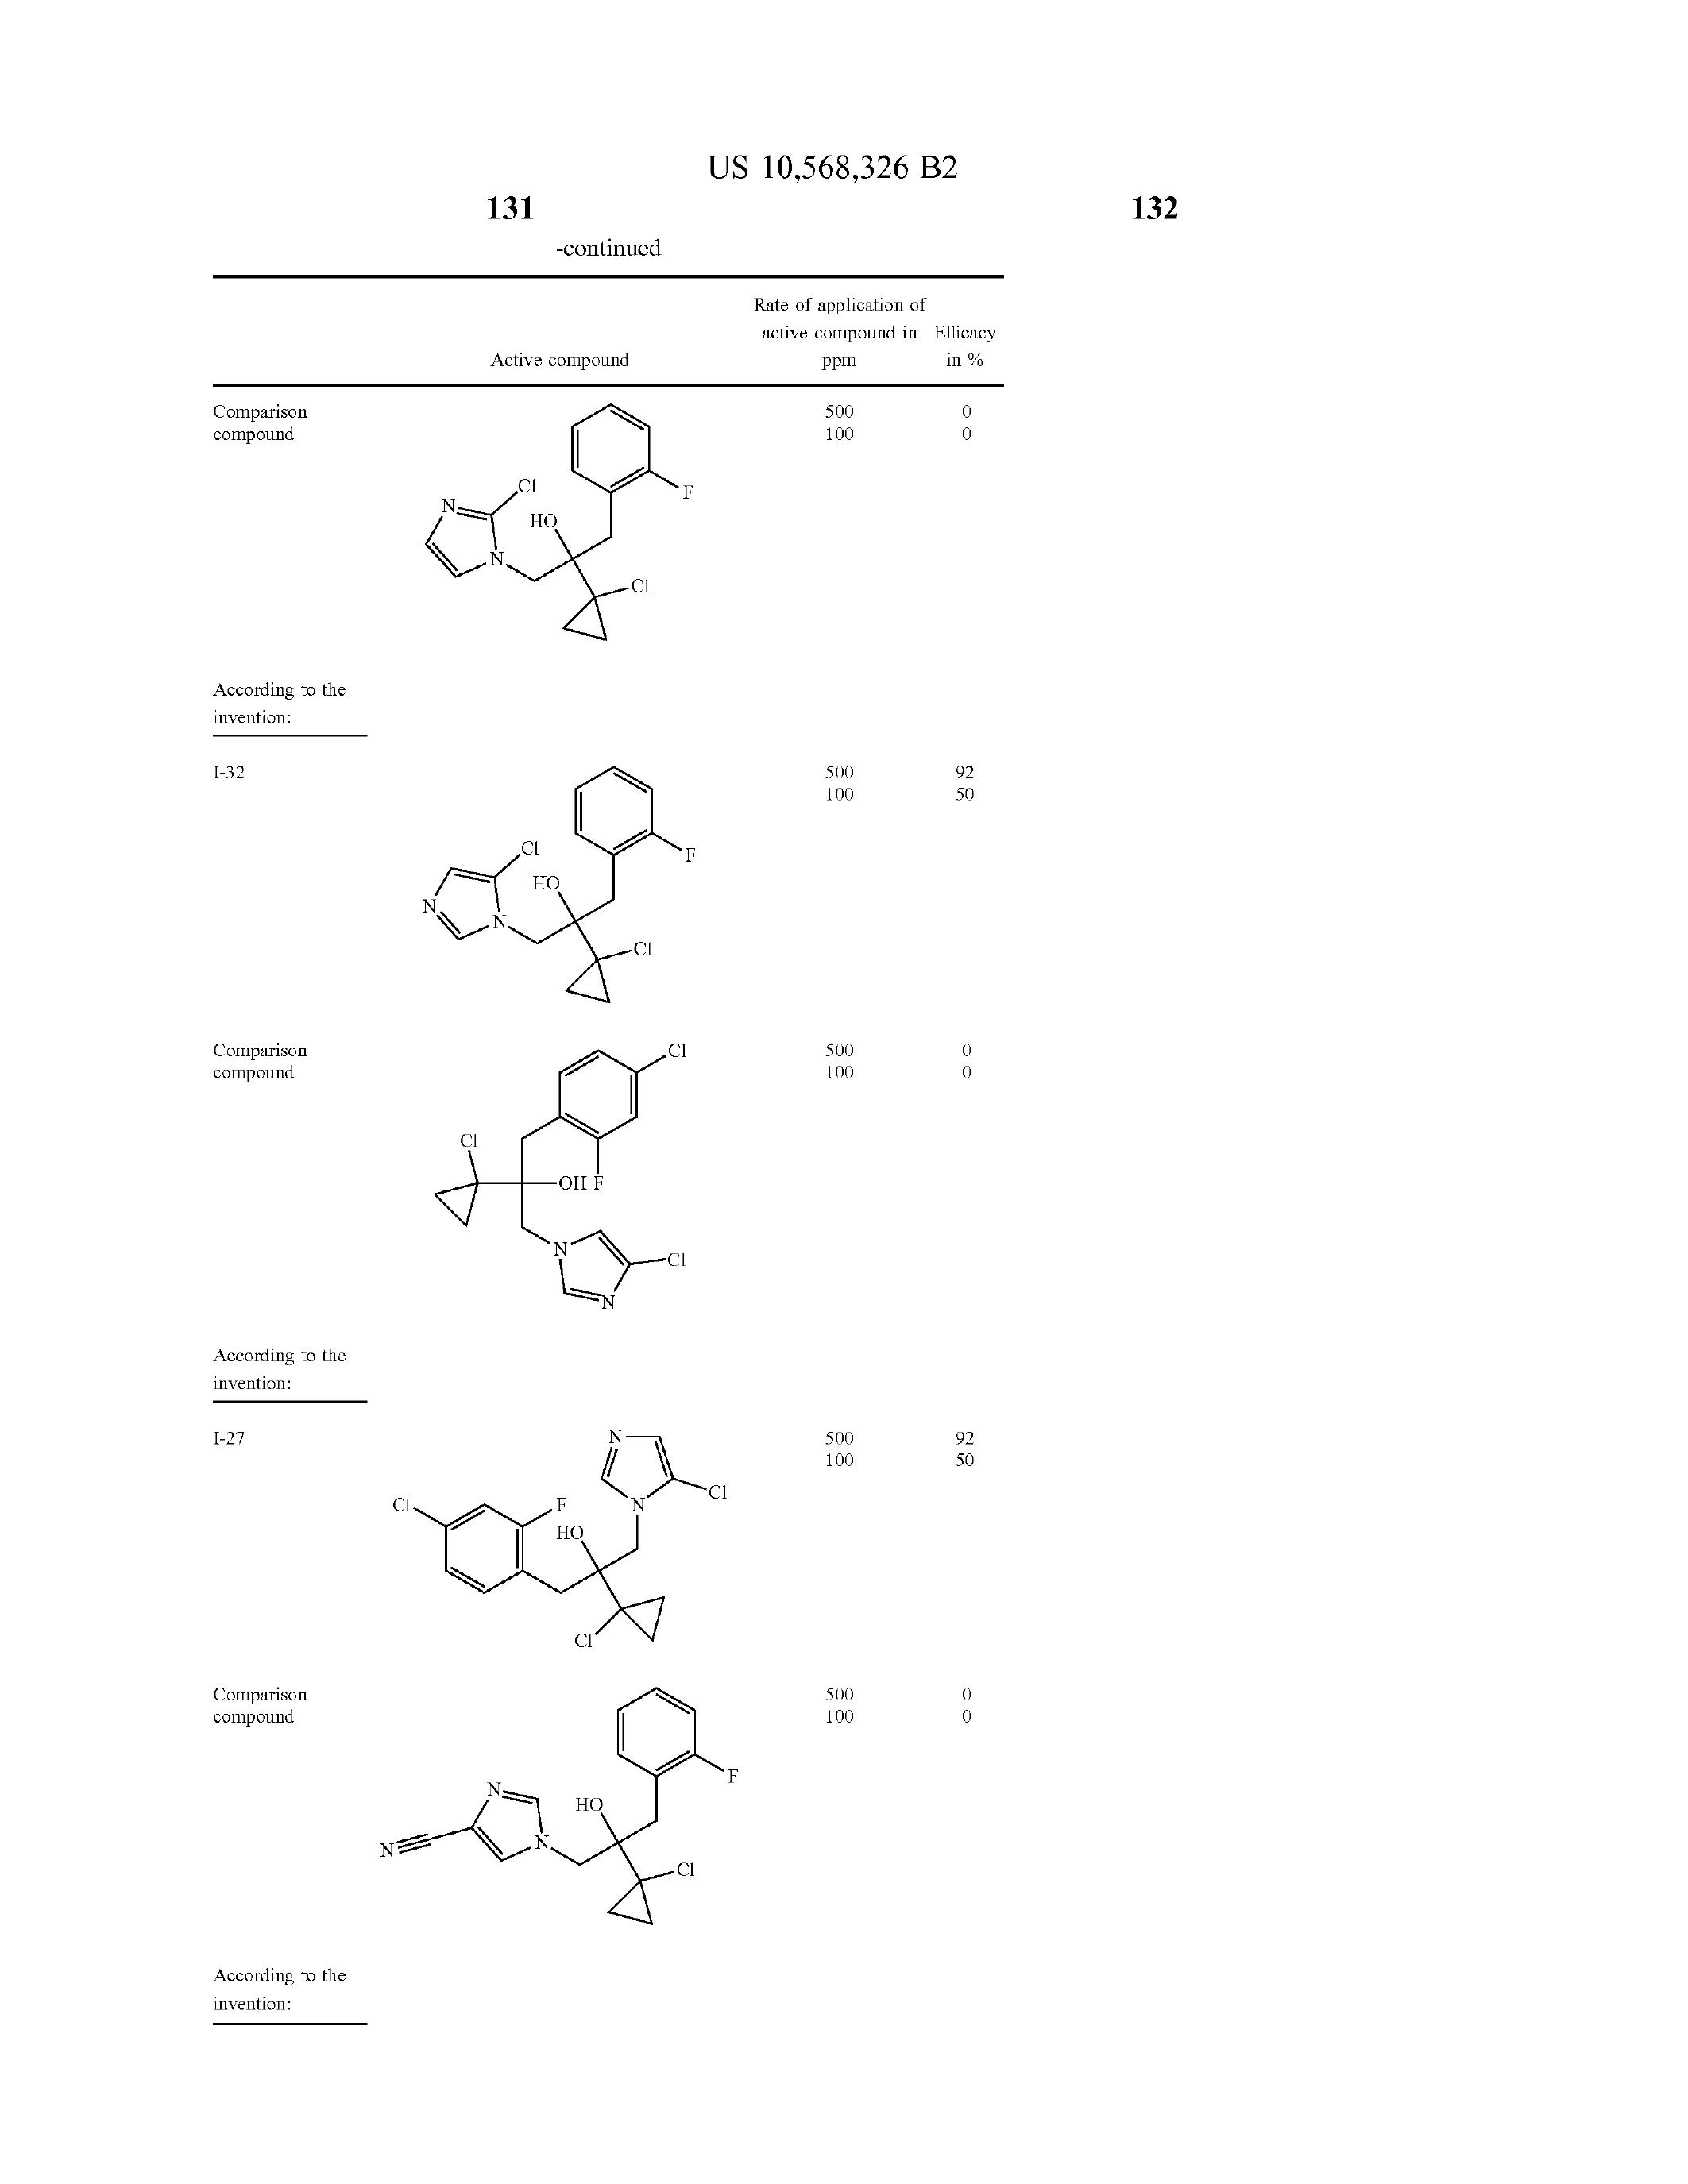relevant-structures: (358, 1681, 794, 1962), (390, 734, 745, 1037), (362, 1381, 736, 1666), (406, 1039, 745, 1346), (390, 381, 713, 698)
